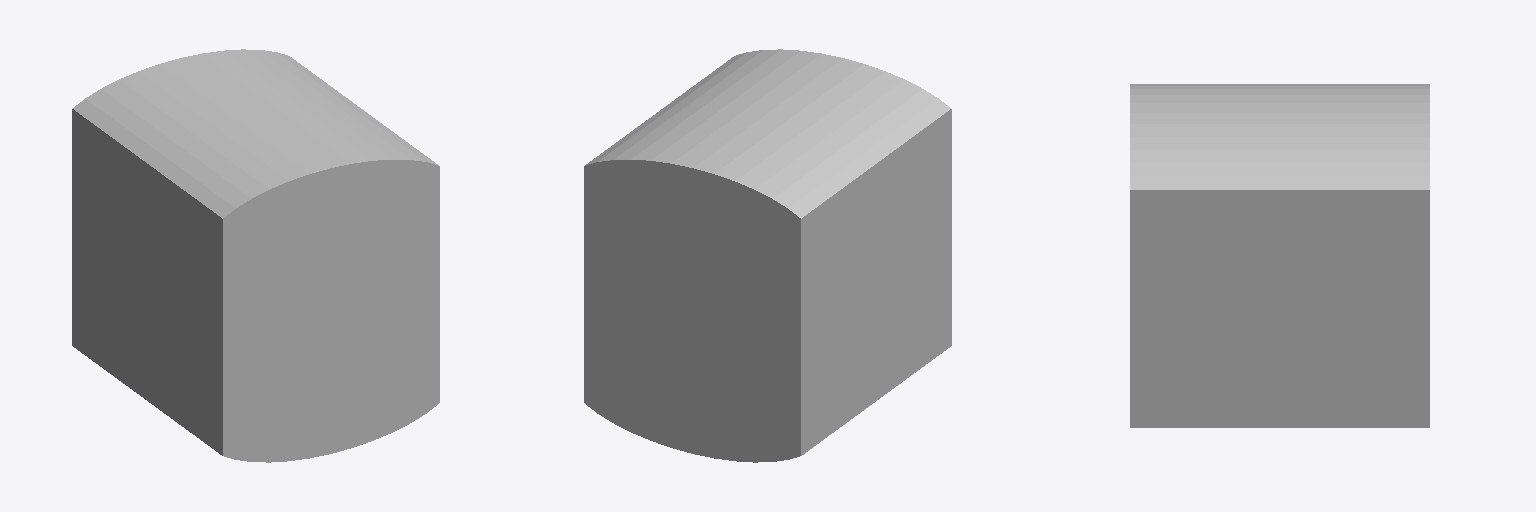
Rendered from original-19.obj.
The picture shows the model from 3 angles: view 1: azimuth 30°, elevation 25°; view 2: azimuth 150°, elevation 25°; view 3: azimuth 270°, elevation 25°; orthographic projection.
Bounding box in the file's own units: 0.0455 × 0.0573 × 0.0547.